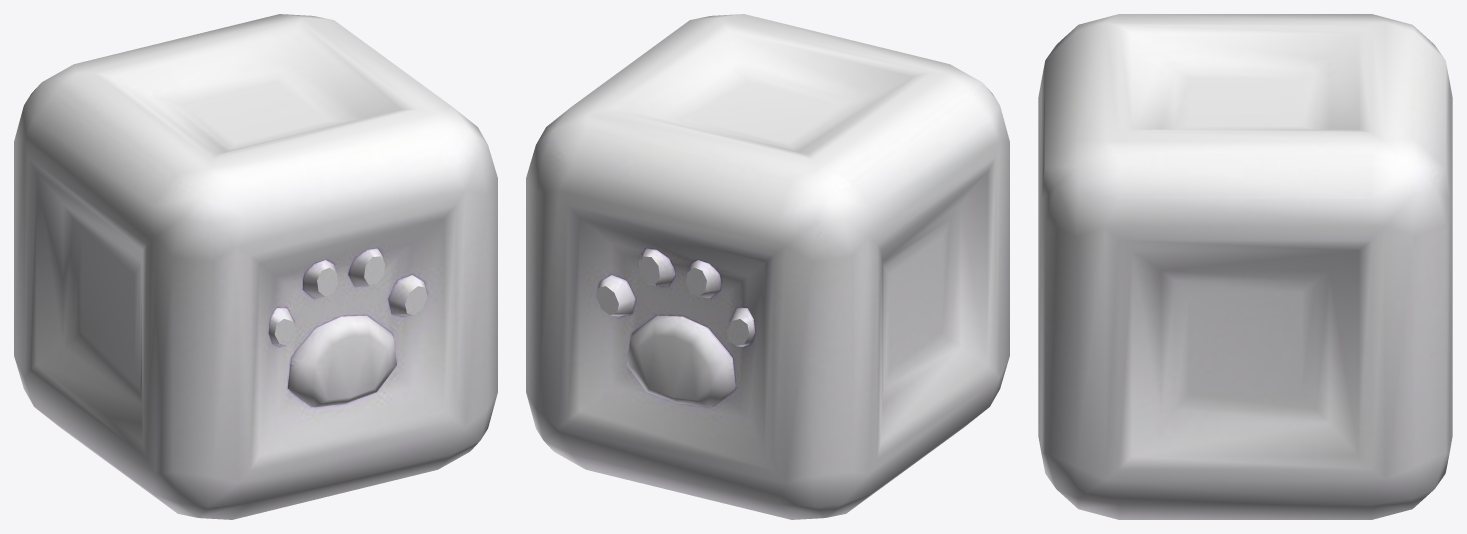
Rendered from cubuk1.glb.
3 renders of one model, left to right at view 1: azimuth 30°, elevation 25°; view 2: azimuth 150°, elevation 25°; view 3: azimuth 270°, elevation 25°, orthographic. The views are drawn at different scales.
Parts seen in each view (by area): view 1: cubuk1; view 2: cubuk1; view 3: cubuk1.
Part boxes in pixels (bbox=[...]): cubuk1: bbox=[14, 14, 497, 519]; cubuk1: bbox=[526, 14, 1009, 519]; cubuk1: bbox=[1038, 14, 1452, 519].
Bounding box in the file's own units: 1.51 × 1.51 × 1.51.
Materials: 1 (1 with a texture image).
